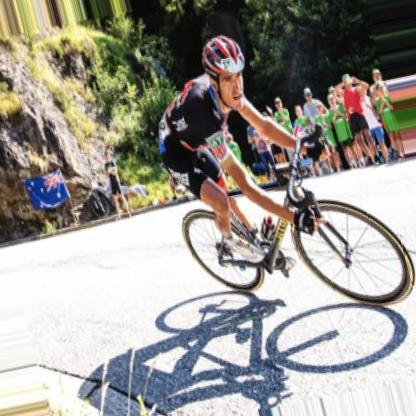with helmet: (202, 34, 248, 112)
